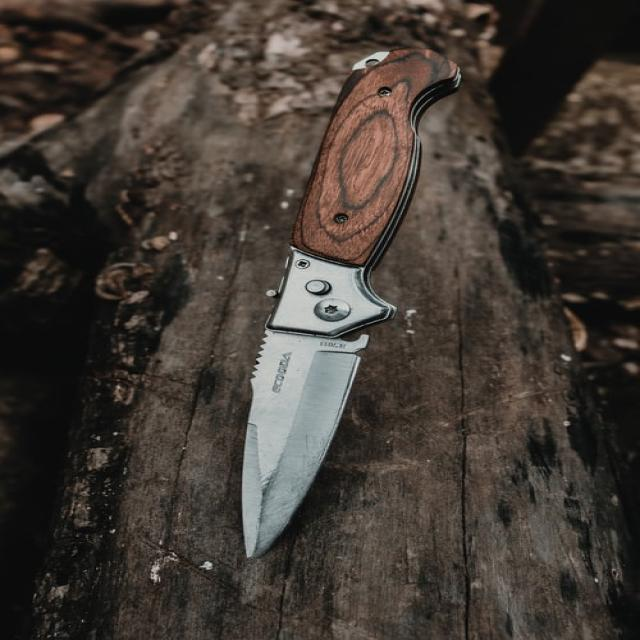faca: (198, 35, 482, 588)
